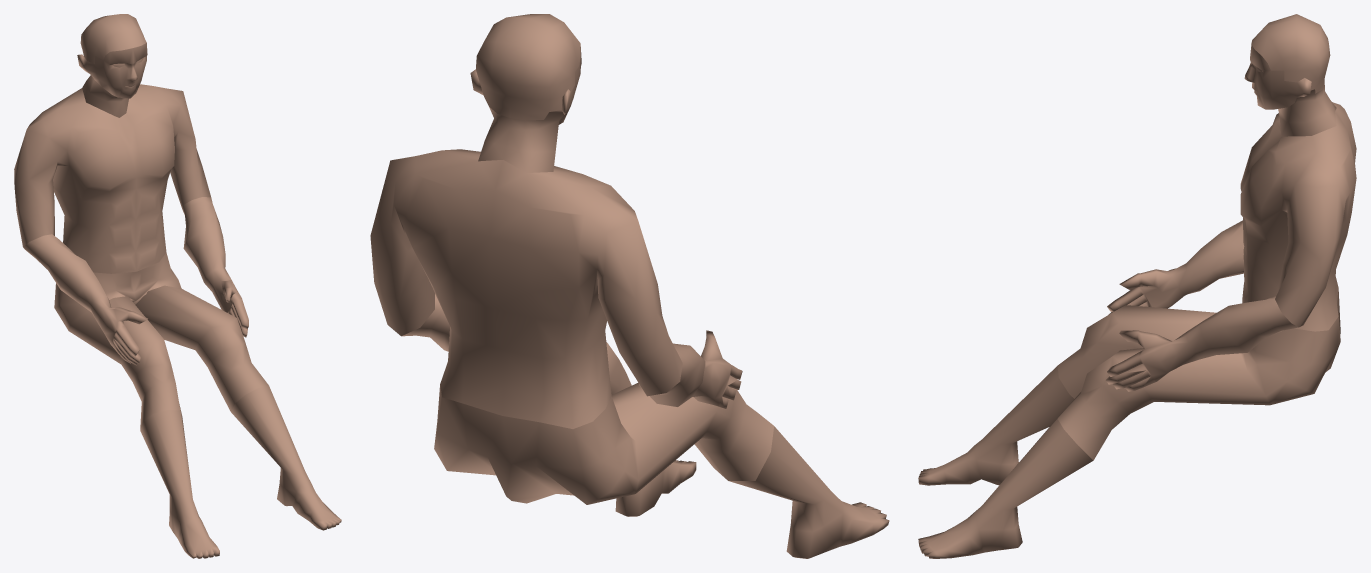
The model's file is Man_3.FBX.
3 renders of one model, left to right at view 1: azimuth 30°, elevation 25°; view 2: azimuth 150°, elevation 25°; view 3: azimuth 270°, elevation 25°, orthographic. The views are drawn at different scales.
Visible parts, largest first — view 1: Tshirt, Pants, Arms_Face, Boots, Hair; view 2: Tshirt, Pants, Boots, Hair, Arms_Face; view 3: Tshirt, Pants, Arms_Face, Boots, Hair.
Part boxes in pixels (box(x1,y1,x2,y2)): Tshirt: box(14, 84, 210, 273); Pants: box(54, 252, 268, 429); Arms_Face: box(23, 43, 248, 365); Boots: box(140, 385, 341, 558); Hair: box(80, 14, 146, 63); Tshirt: box(370, 149, 682, 428); Pants: box(434, 342, 773, 504); Boots: box(615, 426, 889, 558); Hair: box(476, 14, 580, 120); Arms_Face: box(402, 47, 742, 408); Tshirt: box(1240, 102, 1356, 331); Pants: box(1057, 289, 1340, 460); Arms_Face: box(1106, 43, 1336, 391); Boots: box(918, 366, 1093, 558); Hair: box(1251, 14, 1330, 93).
Bounding box in the file's own units: 23.7 × 50.21 × 40.15.
